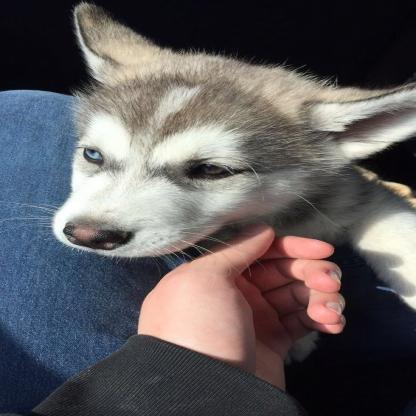husky: (48, 6, 416, 320)
